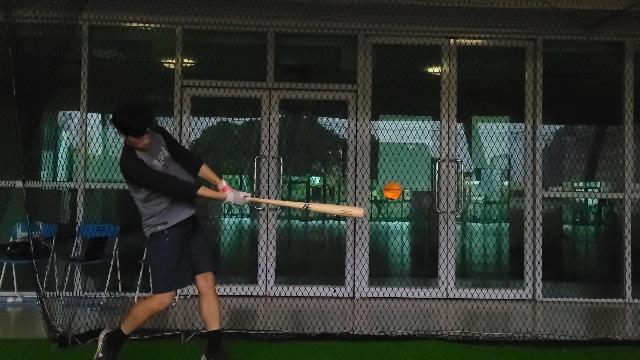bat: (244, 195, 366, 219)
